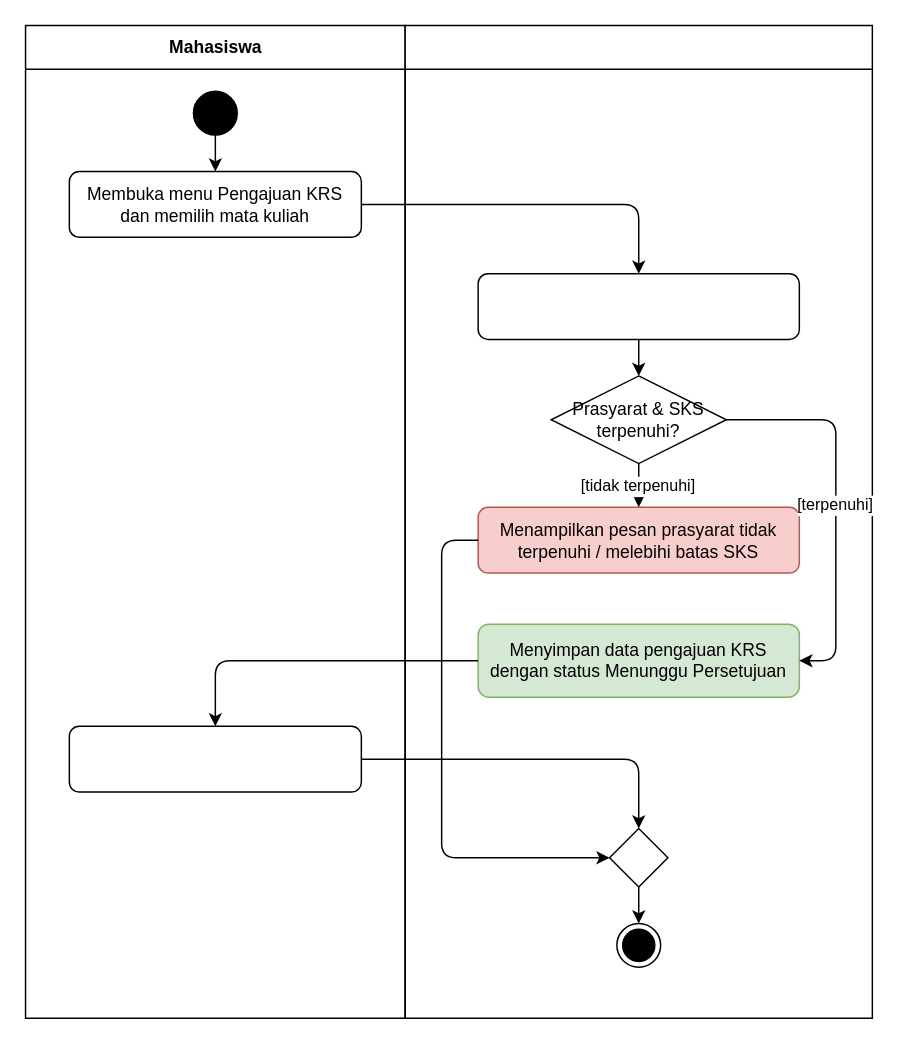
The diagram is 901 pixels wide and 1044 high, and some of its shapes have lost their labels. The box of each missing label's shape, as (x1, y1, x2, y2) in pixels:
Menerima konfirmasi pengajuan KRS: (68, 725, 361, 792)
Periksa Prasyarat Mata Kuliah (include): (477, 272, 799, 339)
Sistem: (404, 24, 872, 1018)
